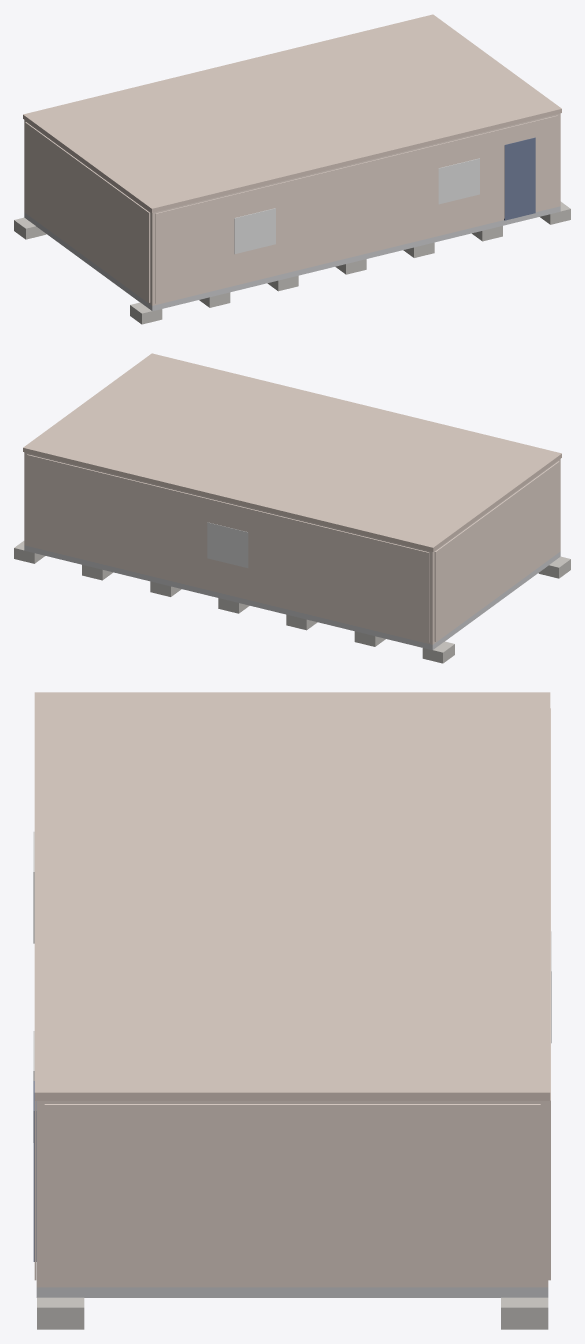
The model's file is Studio-40-Base-Mauve-LOD3.glb.
3 renders of one model, top to bottom at view 1: azimuth 30°, elevation 25°; view 2: azimuth 150°, elevation 25°; view 3: azimuth 270°, elevation 25°, orthographic. The views are drawn at different scales.
Parts seen in each view (by area): view 1: RoofMain, ExteriorPanelsStandard, BaseFrame, WindowsStandard, ExteriorShell, FoundationBlocks, EntryDoor; view 2: RoofMain, ExteriorPanelsStandard, BaseFrame, ExteriorShell, FoundationBlocks, WindowsStandard; view 3: RoofMain, ExteriorPanelsStandard, ExteriorShell, BaseFrame, FoundationBlocks.
Part boxes in pixels (left/top/right/bottom): RoofMain: left=23, top=14, right=561, bottom=212; ExteriorPanelsStandard: left=25, top=115, right=557, bottom=303; BaseFrame: left=24, top=206, right=560, bottom=311; WindowsStandard: left=234, top=158, right=479, bottom=254; ExteriorShell: left=24, top=113, right=560, bottom=305; FoundationBlocks: left=14, top=201, right=570, bottom=324; EntryDoor: left=504, top=137, right=535, bottom=220; RoofMain: left=23, top=353, right=561, bottom=551; ExteriorPanelsStandard: left=27, top=454, right=559, bottom=642; BaseFrame: left=24, top=545, right=560, bottom=650; ExteriorShell: left=24, top=452, right=560, bottom=644; FoundationBlocks: left=14, top=541, right=570, bottom=663; WindowsStandard: left=207, top=522, right=248, bottom=567; RoofMain: left=34, top=692, right=550, bottom=1100; ExteriorPanelsStandard: left=34, top=708, right=550, bottom=1284; ExteriorShell: left=36, top=1101, right=548, bottom=1287; BaseFrame: left=36, top=1287, right=548, bottom=1297; FoundationBlocks: left=37, top=1297, right=548, bottom=1329.
Size of the model in its own units: 12.49 by 3.17 by 6.53.
